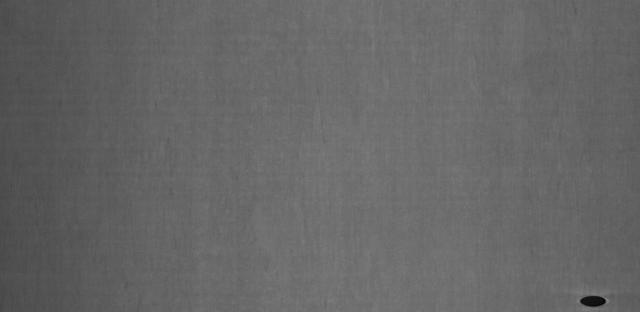punching_hole: (576, 294, 612, 310)
